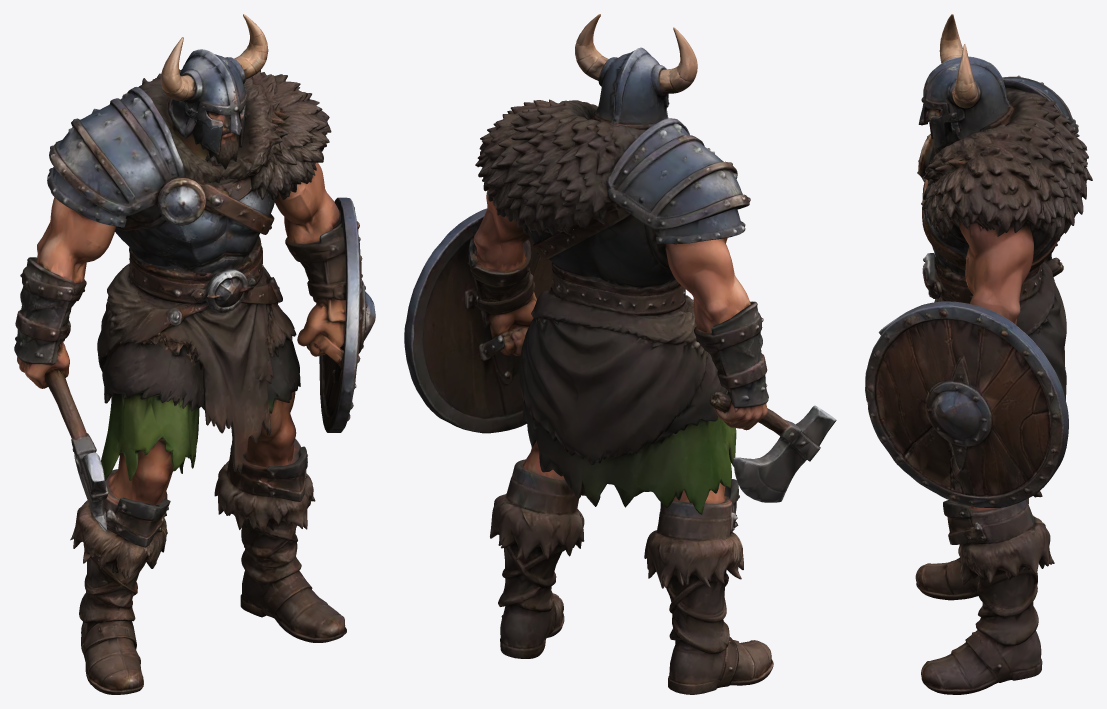
The model's file is fighter.glb.
3 views of the same model, side by side, from view 1: azimuth 30°, elevation 25°; view 2: azimuth 150°, elevation 25°; view 3: azimuth 270°, elevation 25° (orthographic). The views are drawn at different scales.
Parts seen in each view (by area): view 1: tripo_node_2a7506bf-2306-494d-821c-4a9c4c9ec963; view 2: tripo_node_2a7506bf-2306-494d-821c-4a9c4c9ec963; view 3: tripo_node_2a7506bf-2306-494d-821c-4a9c4c9ec963.
Boxes of the visible parts, box(x1,y1,x2,y2) form: tripo_node_2a7506bf-2306-494d-821c-4a9c4c9ec963: box(14, 14, 375, 694); tripo_node_2a7506bf-2306-494d-821c-4a9c4c9ec963: box(404, 14, 836, 694); tripo_node_2a7506bf-2306-494d-821c-4a9c4c9ec963: box(865, 14, 1092, 694).
Size of the model in its own units: 0.5524 by 0.9816 by 0.332.
1 material, 1 textured.
